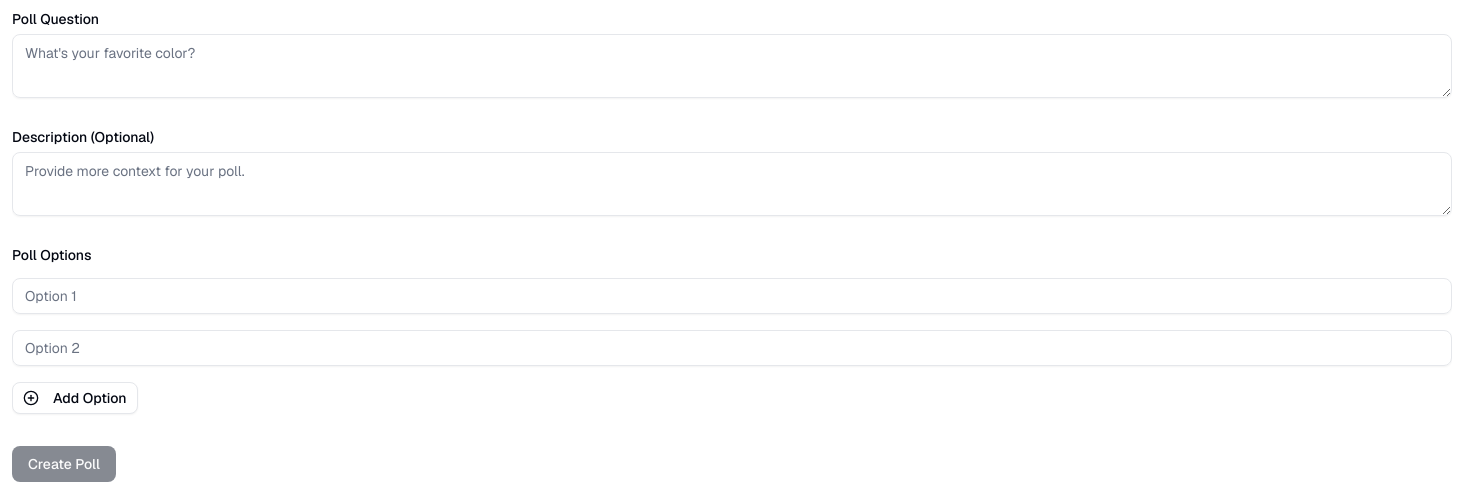
Test: PollForm › should show loading state during form submission
The image size is (1464, 499).
# Fill out the form
In the text box labelled "Poll Question": point(732, 66) [12,34,1452,98], type "Test Poll Title"
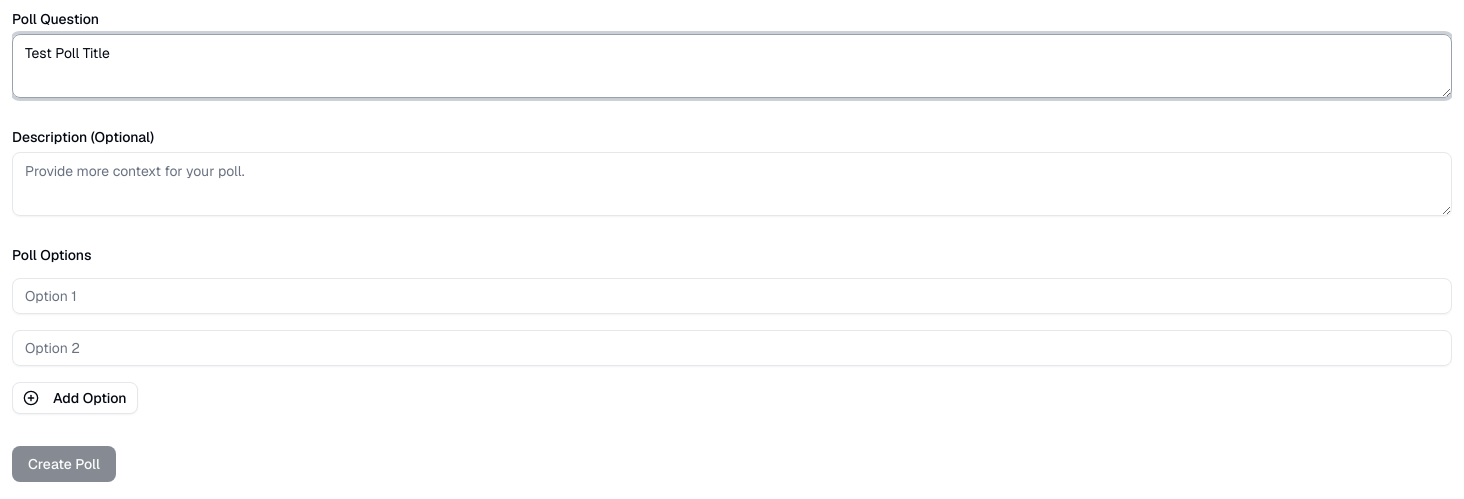
In the field with placeholder "Option 1": point(732, 296) [12,278,1452,314], type "Option One"
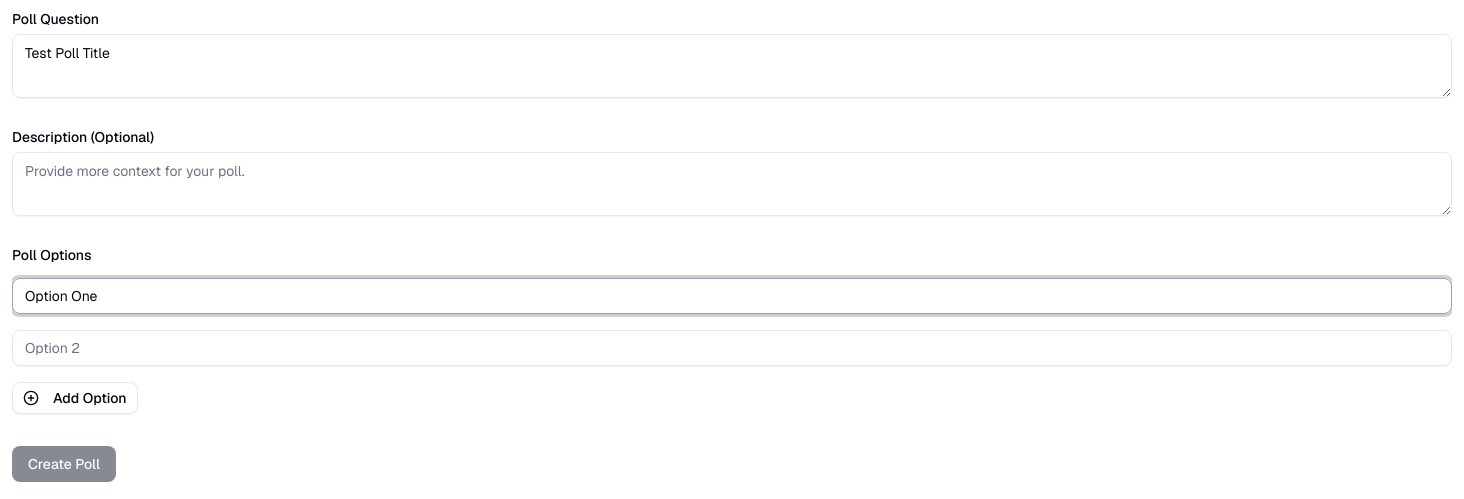
In the field with placeholder "Option 2": point(732, 348) [12,330,1452,366], type "Option Two"
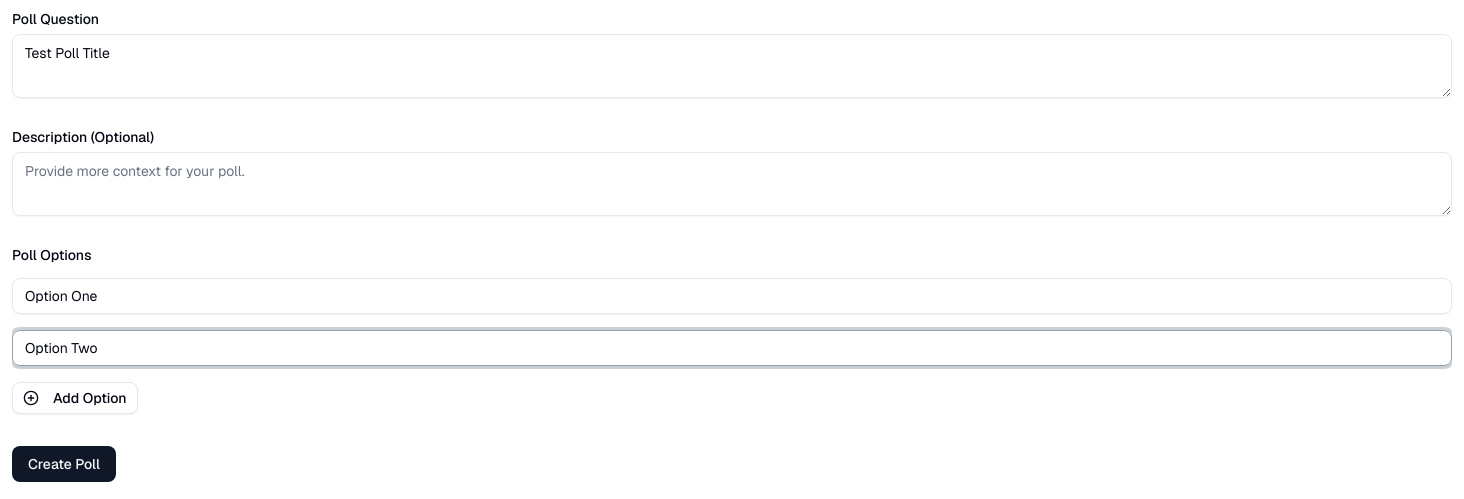
# Submit the form
Click the button "Create Poll": point(64, 464) [12,446,116,482]
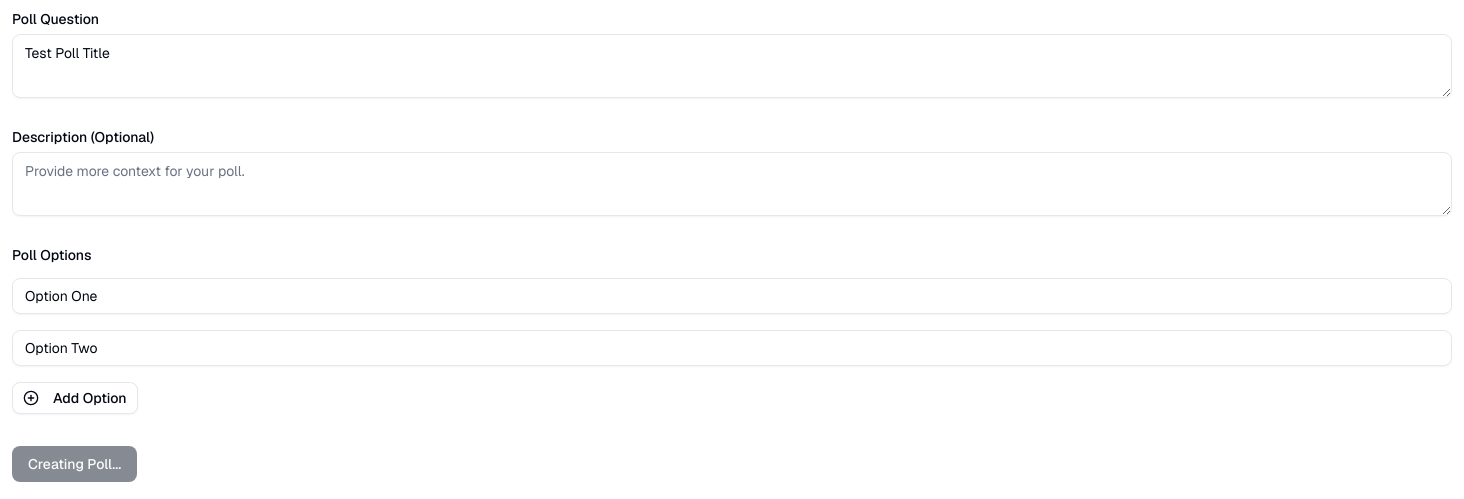
Expected: the button "Creating Poll..." is disabled, [12,446,137,482]
